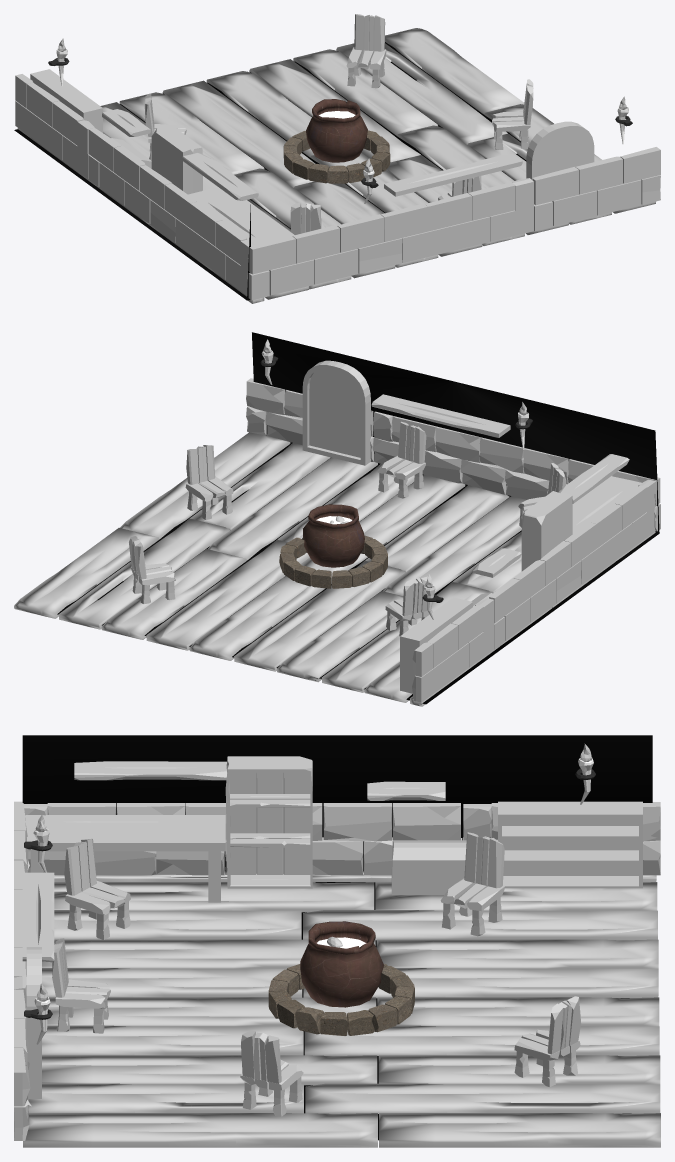
Rendered from map.glb.
The picture shows the model from 3 angles, top to bottom: view 1: azimuth 30°, elevation 25°; view 2: azimuth 150°, elevation 25°; view 3: azimuth 270°, elevation 25°; orthographic projection. The views are drawn at different scales.
Visible parts, largest first — view 1: floor, Plane.023, Plane.004, Plane.012, Plane.005, Cylinder, Door, Circle.013, Plane.006, Cube, Plane, Plane.013 (+8 smaller); view 2: floor, Plane, Plane.004, Plane.023, Door, Plane.005, Cylinder, Plane.012, Circle.013, Cube, Plane.014, Plane.007 (+8 smaller); view 3: floor, Plane, Plane.004, Cube.001, Cube, Plane.006, Cylinder, Circle.013, Plane.011, Plane.001, Plane.009, Plane.014 (+9 smaller).
Part boxes in pixels (x1,y1,x2,y2): floor: [17, 28, 655, 303]; Plane.023: [247, 178, 533, 300]; Plane.004: [88, 128, 255, 295]; Plane.012: [532, 147, 660, 231]; Plane.005: [15, 74, 94, 178]; Cylinder: [306, 99, 367, 162]; Door: [526, 121, 594, 179]; Circle.013: [283, 130, 390, 183]; Plane.006: [188, 187, 294, 244]; Cube: [151, 125, 202, 194]; Plane: [14, 42, 526, 300]; Plane.013: [346, 14, 386, 88]; floor: [14, 432, 655, 706]; Plane: [57, 332, 659, 704]; Plane.004: [489, 479, 656, 649]; Plane.023: [373, 411, 660, 531]; Door: [302, 360, 370, 465]; Plane.005: [412, 598, 494, 702]; Cylinder: [303, 504, 364, 567]; Plane.012: [246, 378, 374, 461]; Circle.013: [279, 535, 387, 588]; Cube: [521, 491, 572, 571]; Plane.014: [185, 445, 233, 519]; Plane.007: [377, 421, 426, 498]; floor: [23, 871, 660, 1147]; Plane: [22, 735, 652, 1140]; Plane.004: [23, 803, 462, 875]; Cube.001: [498, 801, 642, 888]; Cube: [225, 756, 312, 888]; Plane.006: [25, 815, 225, 902]; Cylinder: [300, 921, 384, 1007]; Circle.013: [268, 964, 414, 1035]; Plane.011: [440, 832, 504, 936]; Plane.001: [391, 840, 466, 895]; Plane.009: [64, 838, 130, 939]; Plane.014: [240, 1031, 303, 1116].
Bounding box in the file's own units: 15.16 × 4.26 × 15.2.
Materials: 6 (2 with a texture image).
